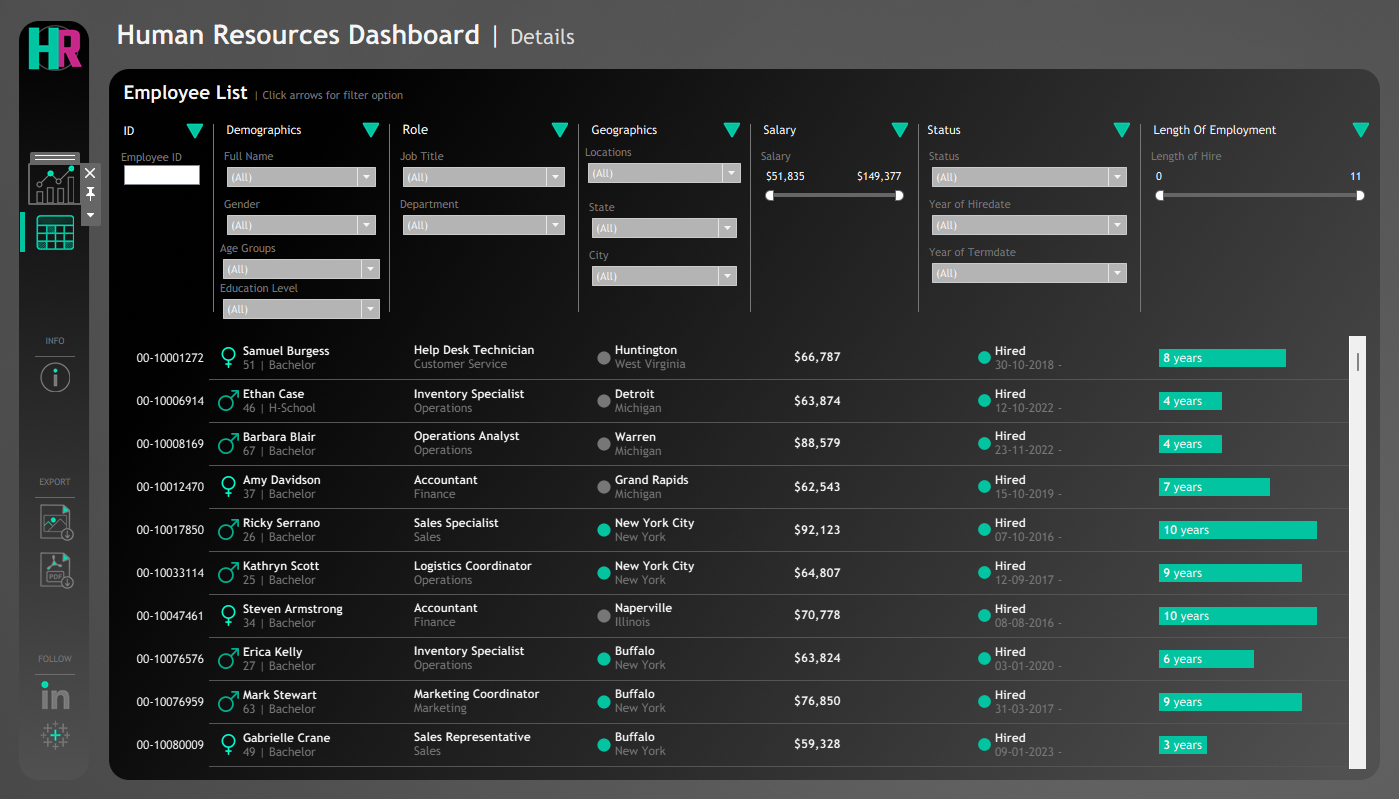

This screenshot's page, from the dashboard's own definition file:
{"tool":"tableau","page":{"name":"HR | Employee Details","canvas":[1400,800],"ordinal":0},"visuals":[{"type":"image","param":"Image/Frame 2.png","box":[0,0,1400,800]},{"type":"text","box":[110,0,673,70]},{"type":"blank","box":[783,0,597,70]},{"type":"image","param":"Image/Logo.png","box":[20,20,70,55]},{"type":"text","box":[117,77,1256,37]},{"type":"blank","box":[30,85,50,80]},{"type":"text","box":[117,114,65,33]},{"type":"dashboard-object","box":[182,114,25,33]},{"type":"blank","box":[207,114,13,208]},{"type":"text","box":[220,114,138,32]},{"type":"dashboard-object","box":[358,114,25,32]},{"type":"blank","box":[383,114,13,208]},{"type":"text","box":[396,114,151,32]},{"type":"dashboard-object","box":[547,114,25,32]},{"type":"blank","box":[572,114,13,208]},{"type":"text","box":[585,114,134,32]},{"type":"dashboard-object","box":[719,114,25,32]},{"type":"blank","box":[744,114,13,208]},{"type":"text","box":[757,114,130,32]},{"type":"dashboard-object","box":[887,114,25,32]},{"type":"blank","box":[912,114,13,208]},{"type":"text","box":[925,114,184,32]},{"type":"dashboard-object","box":[1109,114,25,32]},{"type":"blank","box":[1134,114,13,208]},{"type":"text","box":[1147,114,201.1,32]},{"type":"dashboard-object","box":[1348,114,25,32]},{"type":"filter","title":"Detailed","param":"[federated.145kdan1rucrb81f4k3e501kloph].[none:Calculation_1541241227726850:nk]","box":[220,146,163,48]},{"type":"filter","title":"Detailed","param":"[federated.145kdan1rucrb81f4k3e501kloph].[none:Job Title:nk]","box":[396,146,176,48]},{"type":"filter","title":"Detailed","param":"[federated.145kdan1rucrb81f4k3e501kloph].[none:Calculation_1507498542620677:nk]","box":[585,146,159,51]},{"type":"filter","title":"Detailed","param":"[federated.145kdan1rucrb81f4k3e501kloph].[sum:Salary:qk]","box":[757,146,155,65]},{"type":"filter","title":"Detailed","param":"[federated.145kdan1rucrb81f4k3e501kloph].[none:Calculation_0941525293240320:nk]","box":[925,146,209,48]},{"type":"filter","title":"Detailed","param":"[federated.145kdan1rucrb81f4k3e501kloph].[sum:Calculation_1541241233829891:qk]","box":[1147,146,226,65]},{"type":"filter","title":"Detailed","param":"[federated.145kdan1rucrb81f4k3e501kloph].[none:Employee_ID:nk]","box":[117,147,90,45]},{"type":"dashboard-object","box":[30,165,50,38]},{"type":"filter","title":"Detailed","param":"[federated.145kdan1rucrb81f4k3e501kloph].[none:Gender:nk]","box":[220,194,163,48]},{"type":"filter","title":"Detailed","param":"[federated.145kdan1rucrb81f4k3e501kloph].[none:Department:nk]","box":[396,194,176,48]},{"type":"filter","title":"Detailed","param":"[federated.145kdan1rucrb81f4k3e501kloph].[yr:Hiredate:ok]","box":[925,194,209,48]},{"type":"filter","title":"Detailed","param":"[federated.145kdan1rucrb81f4k3e501kloph].[none:State:nk]","box":[585,197,159,48]},{"type":"blank","box":[30,203,50,10]},{"type":"blank","box":[20,212,5,40]},{"type":"dashboard-object","box":[30,213,50,38]},{"type":"filter","title":"Detailed","param":"[federated.145kdan1rucrb81f4k3e501kloph].[none:Calculation_1507498554171401:nk]","box":[220,242,163,40]},{"type":"filter","title":"Detailed","param":"[federated.145kdan1rucrb81f4k3e501kloph].[yr:Termdate:ok]","box":[925,242,209,48]},{"type":"filter","title":"Detailed","param":"[federated.145kdan1rucrb81f4k3e501kloph].[none:City:nk]","box":[585,245,159,48]},{"type":"text","box":[90,246,1310,237]},{"type":"blank","box":[30,251,50,80]},{"type":"filter","title":"Detailed","param":"[federated.145kdan1rucrb81f4k3e501kloph].[none:Education Level:nk]","box":[220,282,163,40]},{"type":"text","box":[30,331,50,20]},{"type":"worksheet","title":"Detailed","mark":"Shape","rows":["Employee_ID"],"cols":["Calculation_1541241227194369","Calculation_1541241227194369","Calculation_1541241227194369","Calculation_1541241227194369","Calculation_1541241227194369","Calculation_1541241233829891"],"box":[117,332,1256,441]},{"type":"blank","box":[30,351,50,11]},{"type":"dashboard-object","box":[30,362,50,30]},{"type":"blank","box":[30,392,50,80]},{"type":"text","box":[30,472,50,20]},{"type":"blank","box":[30,492,50,11]},{"type":"dashboard-object","box":[30,503,50,38]},{"type":"blank","box":[30,541,50,10]},{"type":"dashboard-object","box":[30,551,50,38]},{"type":"blank","box":[30,589,50,60]},{"type":"text","box":[30,649,50,20]},{"type":"blank","box":[30,669,50,11]},{"type":"image","param":"Image/contact-linkedin.png","box":[30,680,50,30]},{"type":"blank","box":[30,710,50,10]},{"type":"image","param":"Image/contact-public.png","box":[30,720,50,30]}]}

Visuals, with their boxes on the page's 1400x800 design canvas (x1, y1, x2, y2). These are canvas units, not pixel positions in the 1399x799 screenshot, which may show the page scaled, cropped or inside an application window:
image: 0/0/1400/800
text: 110/0/783/70
blank: 783/0/1380/70
image: 20/20/90/75
text: 117/77/1373/114
blank: 30/85/80/165
text: 117/114/182/147
dashboard-object: 182/114/207/147
blank: 207/114/220/322
text: 220/114/358/146
dashboard-object: 358/114/383/146
blank: 383/114/396/322
text: 396/114/547/146
dashboard-object: 547/114/572/146
blank: 572/114/585/322
text: 585/114/719/146
dashboard-object: 719/114/744/146
blank: 744/114/757/322
text: 757/114/887/146
dashboard-object: 887/114/912/146
blank: 912/114/925/322
text: 925/114/1109/146
dashboard-object: 1109/114/1134/146
blank: 1134/114/1147/322
text: 1147/114/1348/146
dashboard-object: 1348/114/1373/146
"Detailed" filter: 220/146/383/194
"Detailed" filter: 396/146/572/194
"Detailed" filter: 585/146/744/197
"Detailed" filter: 757/146/912/211
"Detailed" filter: 925/146/1134/194
"Detailed" filter: 1147/146/1373/211
"Detailed" filter: 117/147/207/192
dashboard-object: 30/165/80/203
"Detailed" filter: 220/194/383/242
"Detailed" filter: 396/194/572/242
"Detailed" filter: 925/194/1134/242
"Detailed" filter: 585/197/744/245
blank: 30/203/80/213
blank: 20/212/25/252
dashboard-object: 30/213/80/251
"Detailed" filter: 220/242/383/282
"Detailed" filter: 925/242/1134/290
"Detailed" filter: 585/245/744/293
text: 90/246/1400/483
blank: 30/251/80/331
"Detailed" filter: 220/282/383/322
text: 30/331/80/351
"Detailed" worksheet (Shape marks): 117/332/1373/773
blank: 30/351/80/362
dashboard-object: 30/362/80/392
blank: 30/392/80/472
text: 30/472/80/492
blank: 30/492/80/503
dashboard-object: 30/503/80/541
blank: 30/541/80/551
dashboard-object: 30/551/80/589
blank: 30/589/80/649
text: 30/649/80/669
blank: 30/669/80/680
image: 30/680/80/710
blank: 30/710/80/720
image: 30/720/80/750
